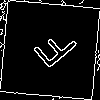F: (24, 24, 80, 77)
